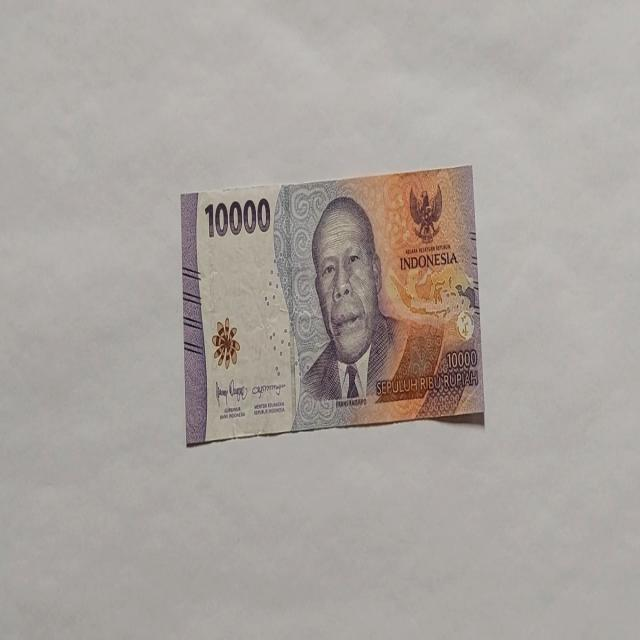sepuluh ribu rupiah: (180, 164, 486, 446)
